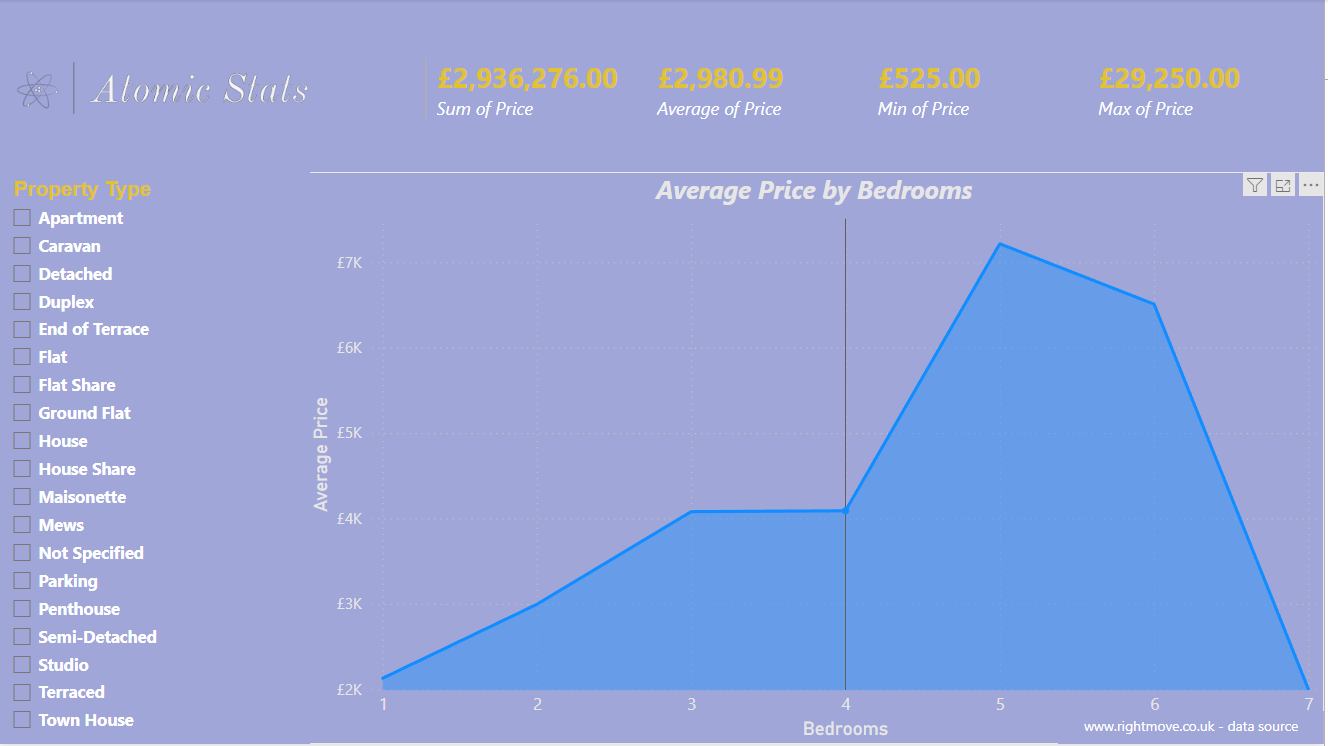

What the dashboard file says about the page in this screenshot:
{"tool":"powerbi","page":{"name":"Rightmove","canvas":[1280,720],"ordinal":0},"visuals":[{"type":"multiRowCard","fields":{"Values":["Sum(rightmove.Price)","Avg(rightmove.Price)","Min(rightmove.Price)","Max(rightmove.Price)"]},"box":[406.3,52.5,873.7,84.6],"z":0},{"type":"stackedAreaChart","title":"Average Price by Bedrooms","fields":{"Category":["rightmove.Bedrooms"],"Y":["Avg(rightmove.Price)"]},"box":[293.5,167.2,986.5,553],"z":2},{"type":"slicer","fields":{"Values":["rightmove.Type"]},"box":[0,167,300,553],"z":3},{"type":"image","box":[0,0,307.1,167.2],"z":5},{"type":"textbox","box":[1022.8,688.3,257.2,31.9],"z":6}]}

Visuals, with their boxes in screenshot pixels (x1, y1, x2, y2), scaled from the page's 1280x720 canvas onto the 1328x746 screenshot:
multiRowCard - Sum(rightmove.Price) x Avg(rightmove.Price): select_region(422, 54, 1327, 142)
"Average Price by Bedrooms" stackedAreaChart: select_region(305, 173, 1327, 745)
slicer - rightmove.Type: select_region(0, 173, 311, 745)
image: select_region(0, 0, 319, 173)
textbox: select_region(1061, 713, 1327, 745)
